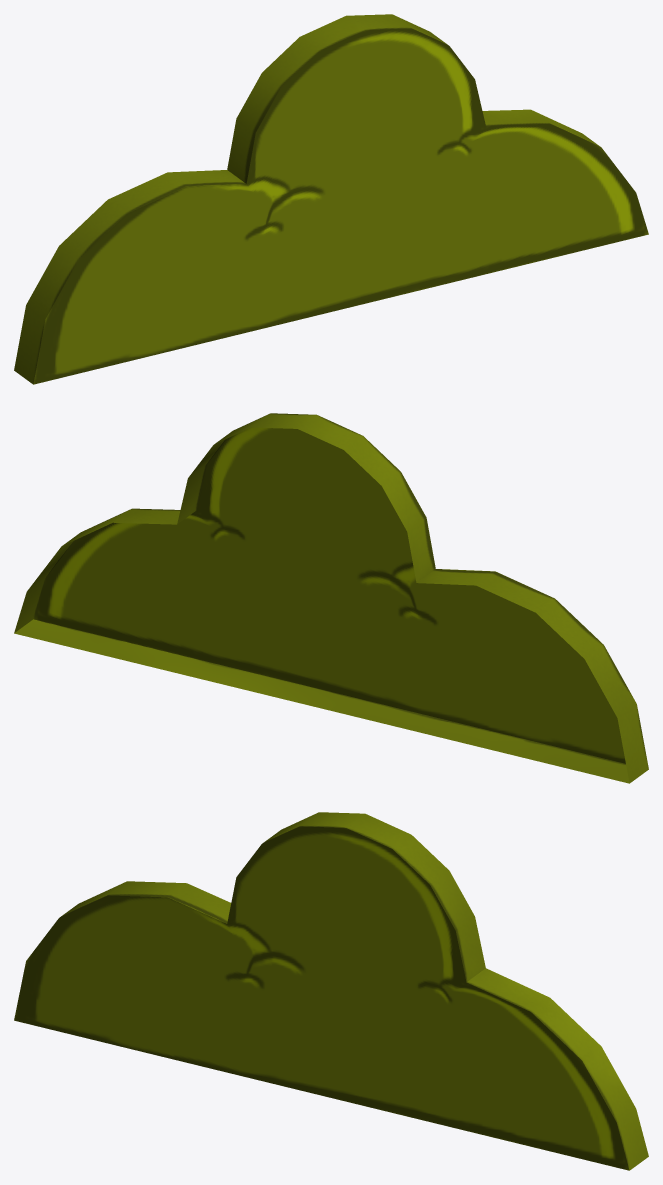
Rendered from Arbusto.FBX.
3 views of the same model, one above another, from view 1: azimuth 30°, elevation 25°; view 2: azimuth 150°, elevation 25°; view 3: azimuth 330°, elevation 25° (orthographic).
Visible parts, largest first — view 1: Arbusto; view 2: Arbusto; view 3: Arbusto.
Boxes of the visible parts, box(x1,y1,x2,y2) form: Arbusto: box(14, 14, 648, 384); Arbusto: box(14, 413, 648, 783); Arbusto: box(14, 812, 648, 1170).
Size of the model in its own units: 41.15 by 17.49 by 2.25.
